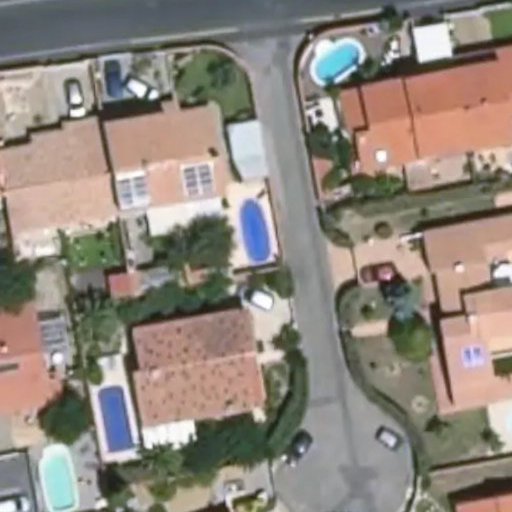pool: (240, 227, 275, 257)
